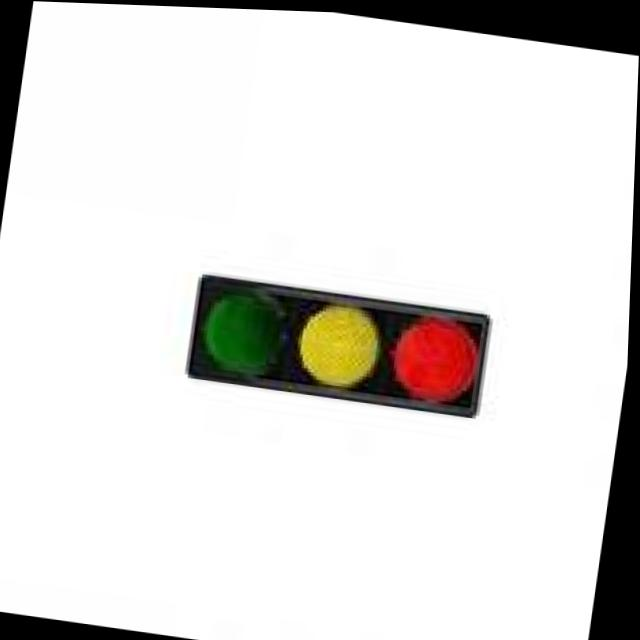green_light: (196, 241, 317, 423)
red_light: (387, 287, 514, 432)
yellow_light: (280, 270, 401, 452)
